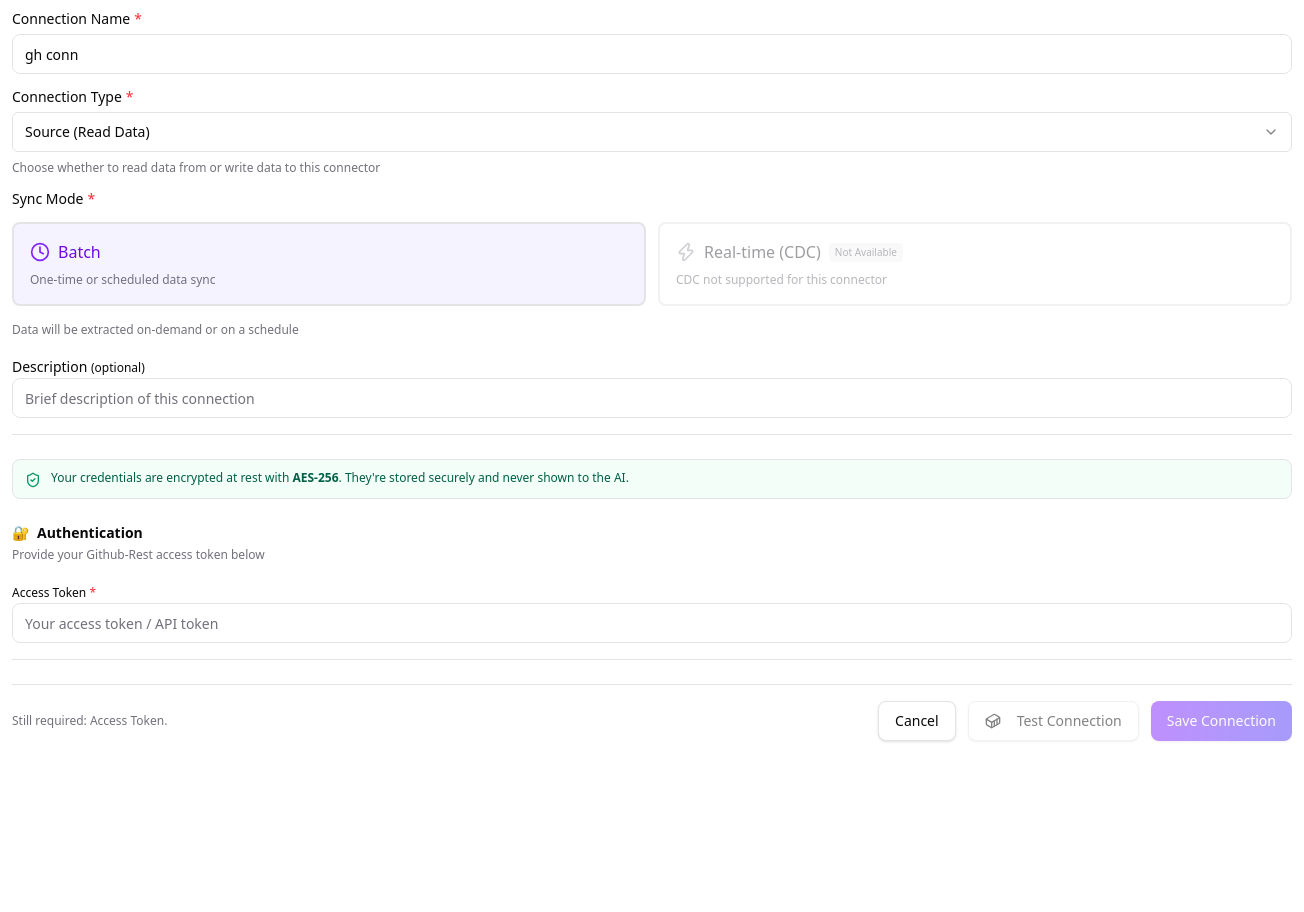
Test case: GenericConnectorForm — auth fallback › bearer connector with no auth metadata renders a credential field and gates Save until filled
expect the text "Provide your Github-Rest access token below" is shown: met, box [12, 546, 265, 563]
expect the button "Save Connection" is disabled: met, box [1151, 701, 1292, 741]
# …and enabled once it is provided.
Type "ghp_xxx" into the password field with placeholder "Your access token / API token" at (652,623), box [12, 603, 1292, 643]
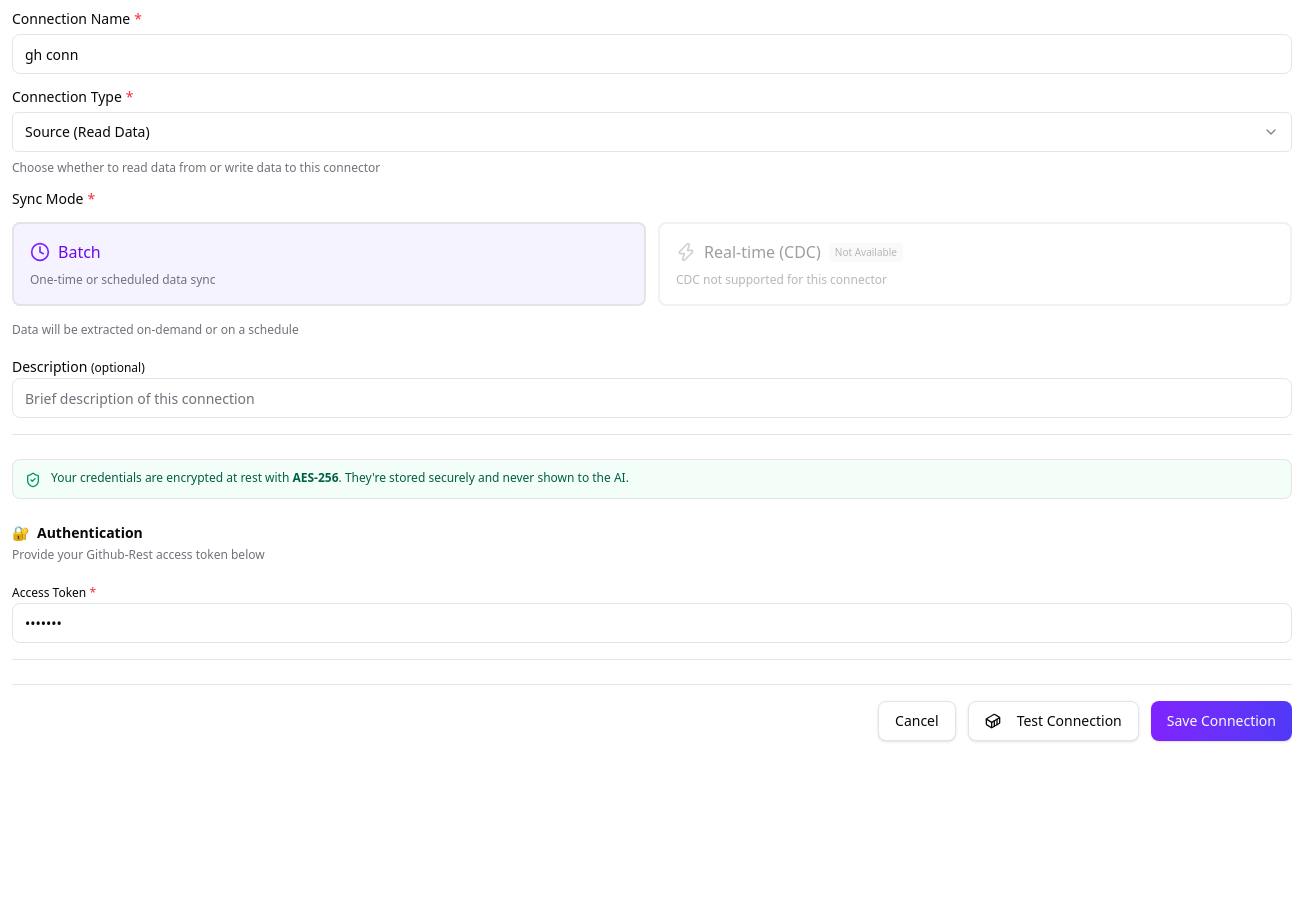
expect the button "Save Connection" is enabled: met, box [1151, 701, 1292, 741]
